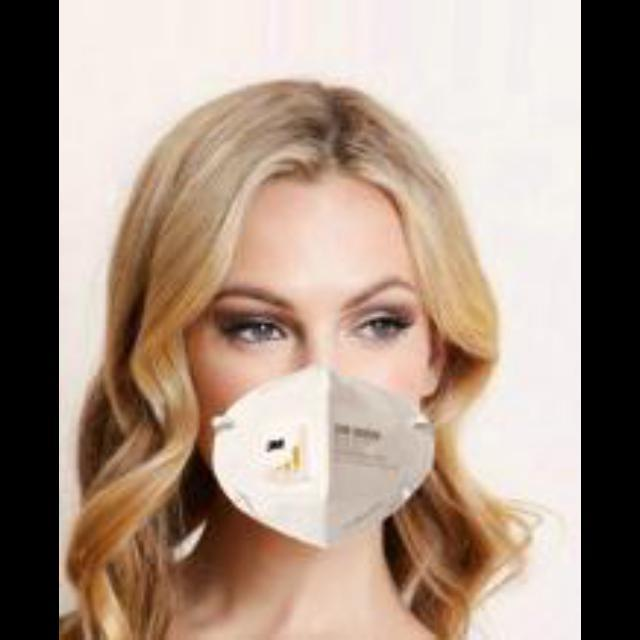suspicion: (148, 91, 480, 543)
